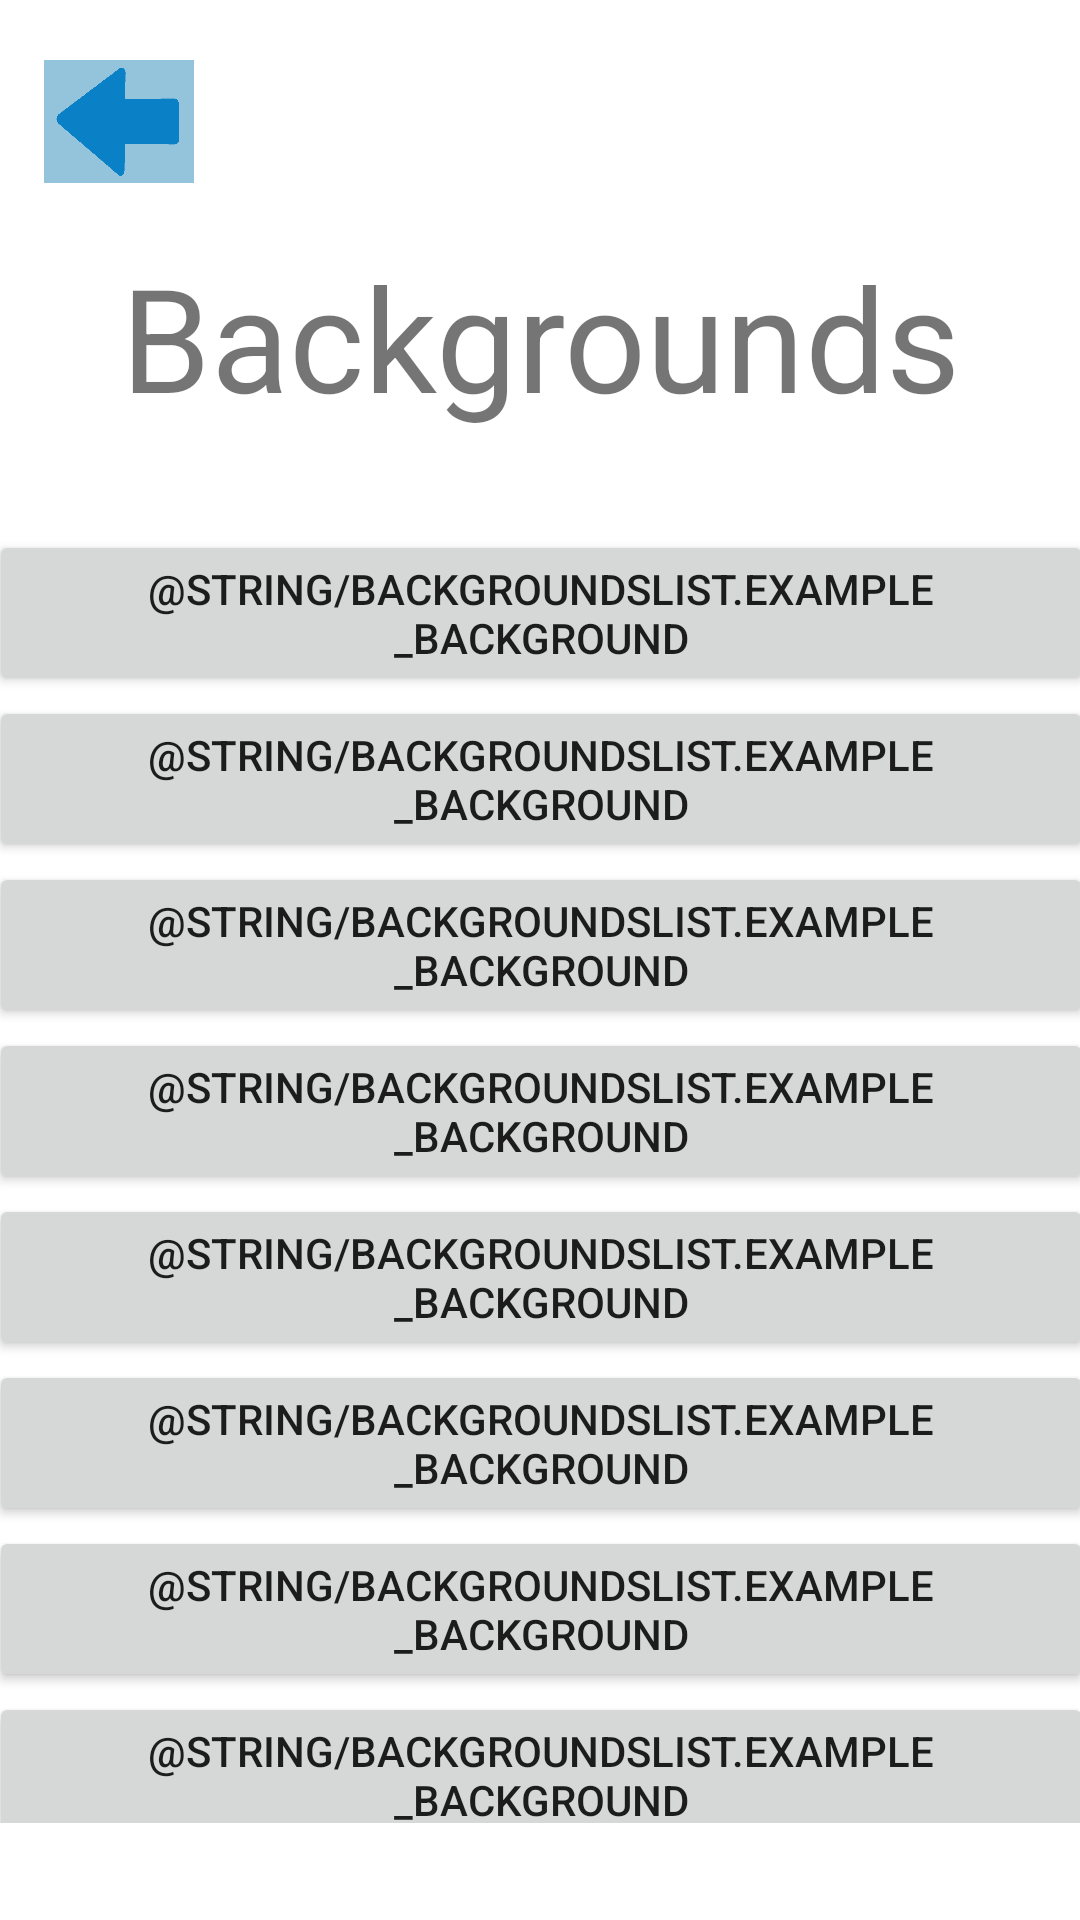

Point at icon controls on the screen. Image size 1080×1920, points as point (x, y).
back arrow: point (119, 121)
